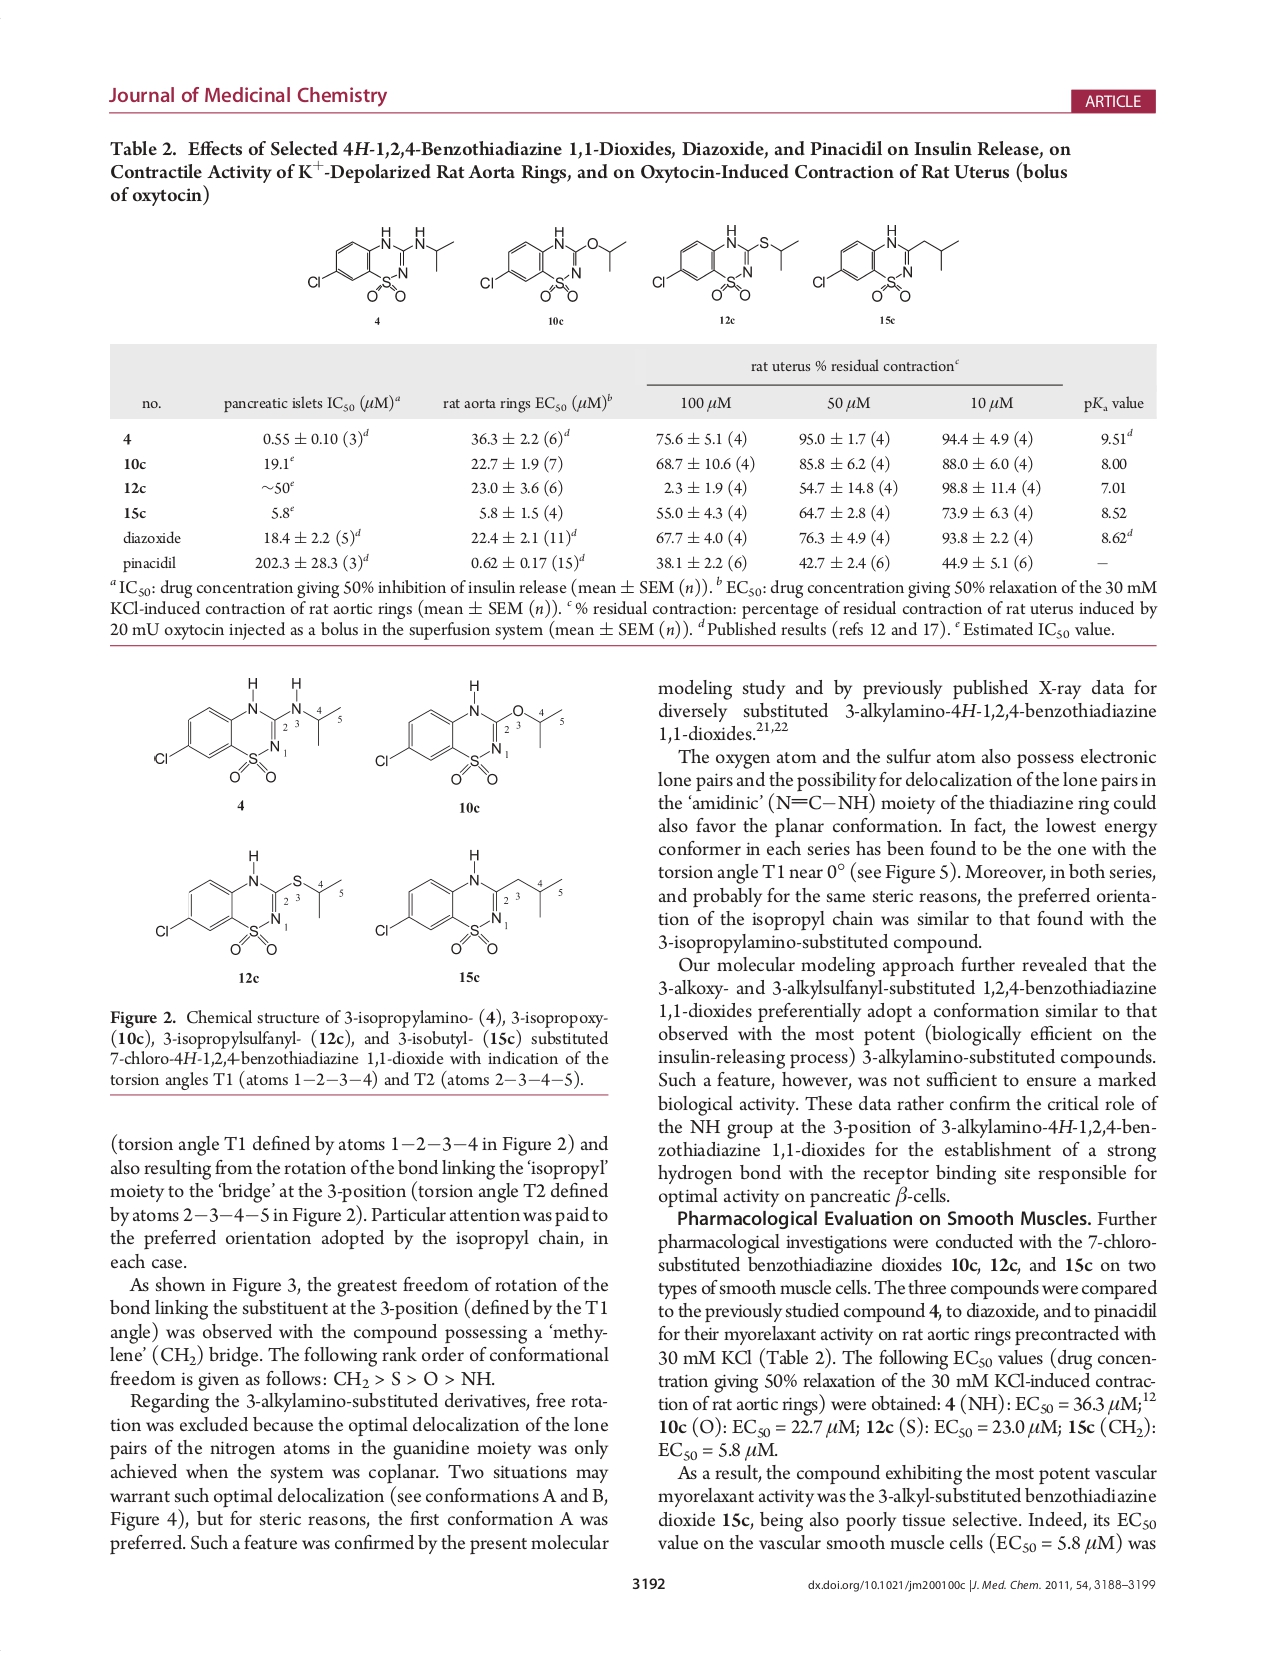exist_molecular: (149, 672, 342, 787), (370, 677, 563, 790), (372, 846, 565, 958), (154, 848, 344, 959), (648, 219, 802, 306), (306, 223, 457, 309), (476, 223, 626, 306), (809, 223, 961, 303)
